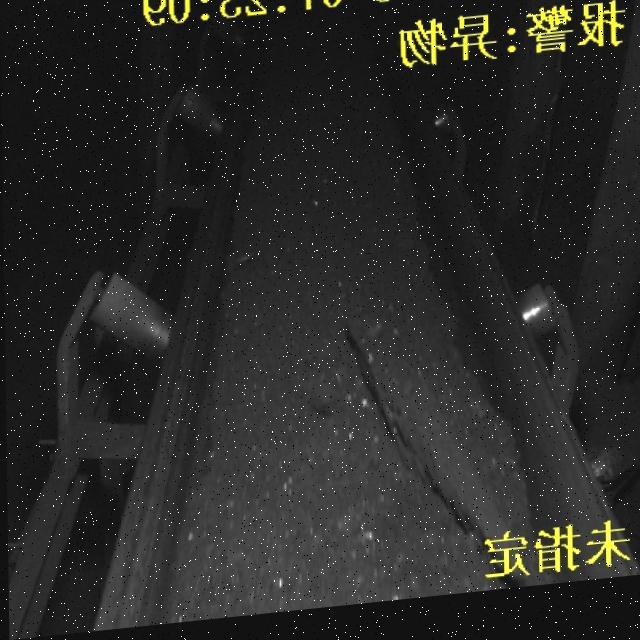bolt: (358, 320, 502, 557)
